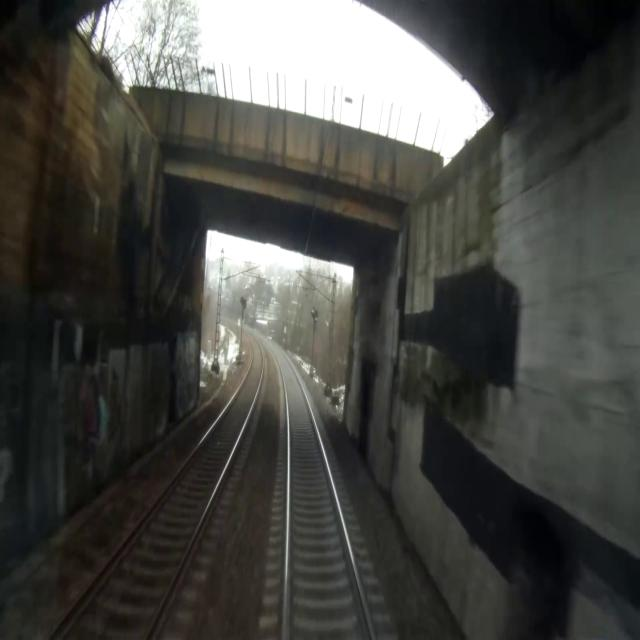rail-track: (52, 334, 261, 639), (270, 343, 371, 639)
